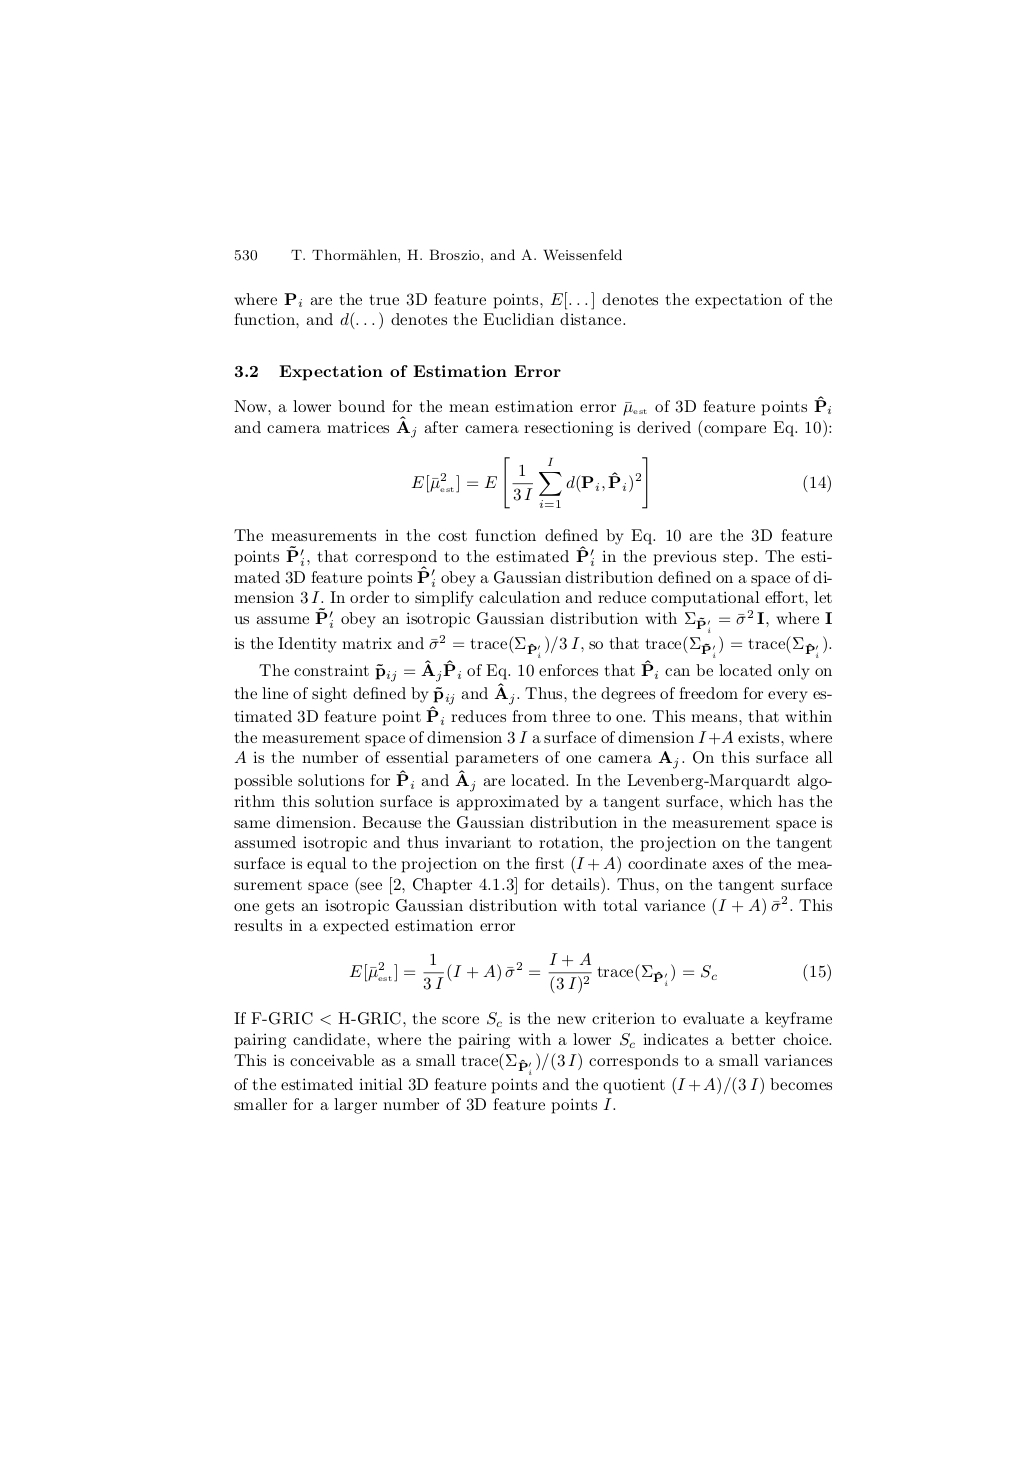formula: (411, 455, 830, 509), (349, 951, 830, 994)
